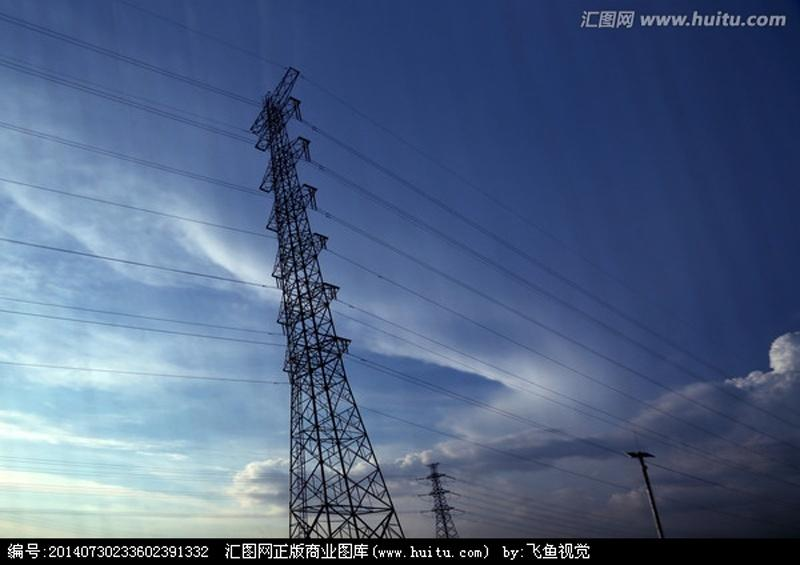power_tower: (232, 63, 415, 530), (410, 455, 464, 534)
